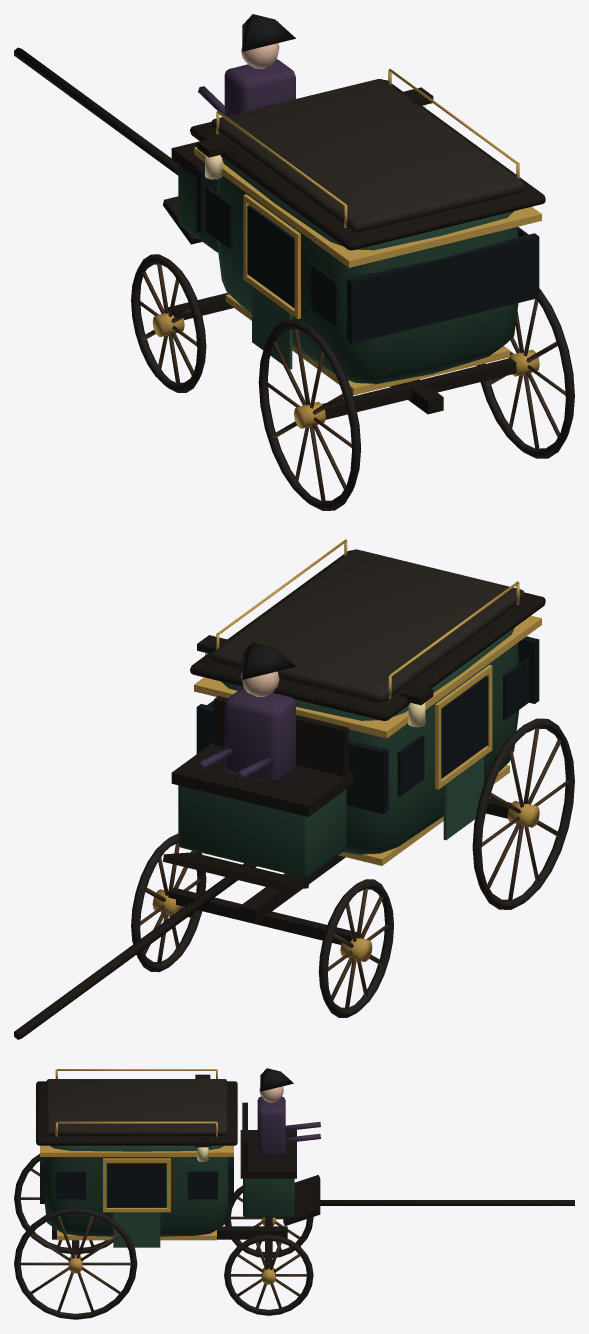
The model's file is coach.glb.
3 renders of one model, top to bottom at view 1: azimuth 30°, elevation 25°; view 2: azimuth 150°, elevation 25°; view 3: azimuth 270°, elevation 25°, orthographic. The views are drawn at different scales.
Visible parts, largest first — view 1: Cube.001, body, Cube.018, Cube, Torus.001, Cube.020, Cube.002, Cube.031, Torus.003, Cube.027, Torus, Cylinder.006 (+11 smaller); view 2: Cube.001, Cube.022, body, Cube, Cube.031, Cube.023, Torus.001, Cube.019, Cube.020, Cube.002, Cube.024, Torus.003 (+12 smaller); view 3: Cube.001, body, Cube, Cube.010, Torus, Cube.022, Cube.023, Torus.002, Cube.031, Cylinder.006, Cube.015, Cube.020 (+12 smaller).
Part boxes in pixels (bbox=[...]): Cube.001: bbox=[211, 79, 524, 232]; body: bbox=[216, 158, 518, 384]; Cube.018: bbox=[347, 233, 539, 343]; Cube: bbox=[190, 80, 545, 250]; Torus.001: bbox=[258, 319, 361, 510]; Cube.020: bbox=[194, 147, 541, 267]; Cube.002: bbox=[247, 205, 294, 308]; Cube.031: bbox=[224, 59, 295, 115]; Torus.003: bbox=[131, 254, 206, 392]; Cube.027: bbox=[322, 358, 516, 419]; Torus: bbox=[476, 288, 574, 458]; Cylinder.006: bbox=[14, 47, 178, 175]; Cube.001: bbox=[211, 549, 524, 702]; Cube.022: bbox=[178, 785, 346, 877]; body: bbox=[221, 628, 519, 854]; Cube: bbox=[190, 550, 545, 720]; Cube.031: bbox=[224, 687, 295, 782]; Cube.023: bbox=[171, 742, 353, 816]; Torus.001: bbox=[472, 718, 574, 909]; Cube.019: bbox=[196, 704, 388, 814]; Cube.020: bbox=[194, 615, 541, 738]; Cube.002: bbox=[441, 676, 488, 778]; Cube.024: bbox=[214, 696, 348, 776]; Torus.003: bbox=[318, 879, 393, 1017]; Cube.001: bbox=[46, 1079, 227, 1135]; body: bbox=[44, 1145, 228, 1236]; Cube: bbox=[36, 1081, 237, 1145]; Cube.010: bbox=[107, 1163, 165, 1206]; Torus: bbox=[14, 1208, 137, 1319]; Cube.022: bbox=[243, 1178, 294, 1217]; Cube.023: bbox=[240, 1130, 296, 1178]; Torus.002: bbox=[224, 1234, 313, 1315]; Cube.031: bbox=[257, 1096, 285, 1156]; Cylinder.006: bbox=[294, 1200, 574, 1205]; Cube.015: bbox=[113, 1212, 160, 1247]; Cube.020: bbox=[40, 1145, 233, 1156].
Size of the model in its own units: 1.8 by 2.53 by 5.95.
